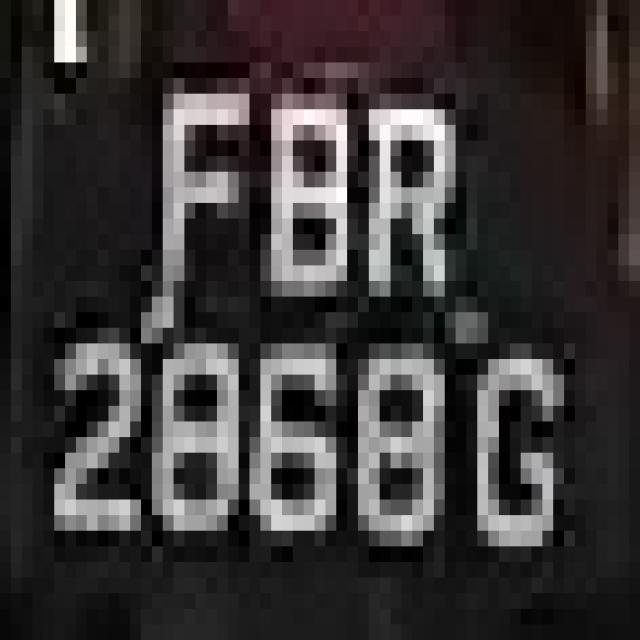2: (43, 312, 163, 593)
6: (228, 328, 347, 578)
8: (130, 266, 250, 578), (347, 296, 467, 578)
B: (239, 31, 358, 359)
F: (130, 16, 250, 359)
G: (456, 297, 586, 593)
R: (347, 62, 488, 359)
